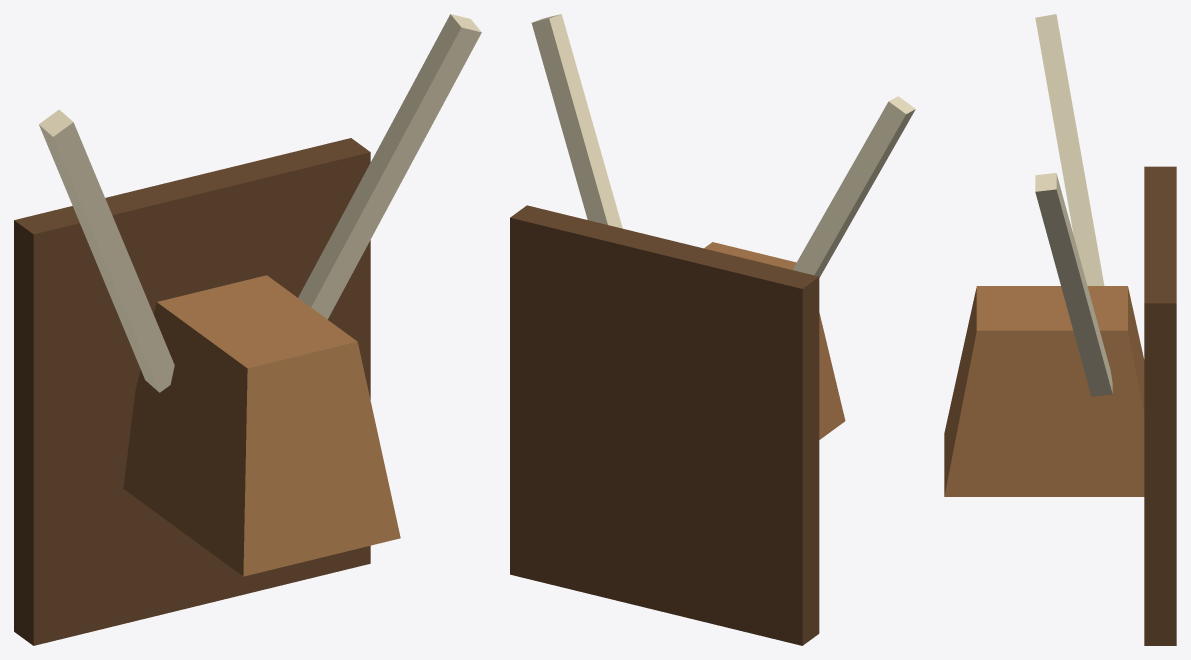
The model's file is GD_DeerTrophy_01.glb.
The picture shows the model from 3 angles, left to right: view 1: azimuth 30°, elevation 25°; view 2: azimuth 150°, elevation 25°; view 3: azimuth 270°, elevation 25°; orthographic projection. The views are drawn at different scales.
Parts seen in each view (by area): view 1: GD_DeerTrophy_01; view 2: GD_DeerTrophy_01; view 3: GD_DeerTrophy_01.
Boxes of the visible parts, x1,y1,x2,y2 form: GD_DeerTrophy_01: (14, 14, 481, 645); GD_DeerTrophy_01: (510, 14, 915, 645); GD_DeerTrophy_01: (944, 14, 1176, 645).
Bounding box in the file's own units: 0.3845 × 0.4947 × 0.215.
1 material, 1 textured.
